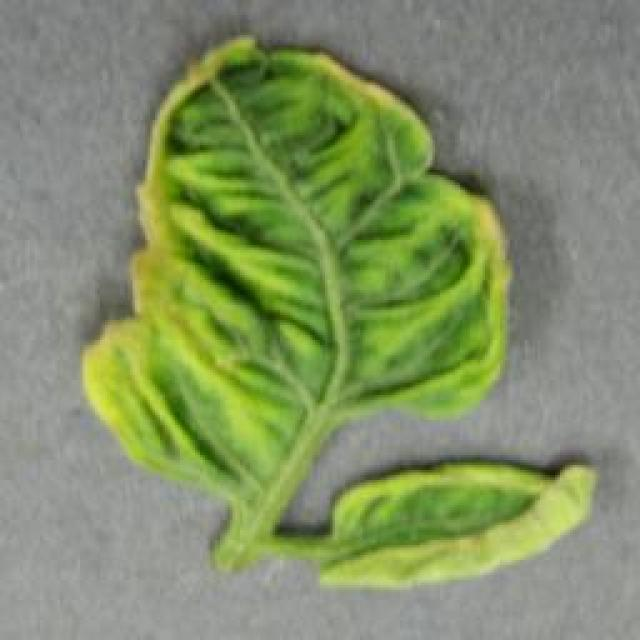Tomato yellow virus leaf: (82, 29, 510, 478), (310, 458, 598, 592)
